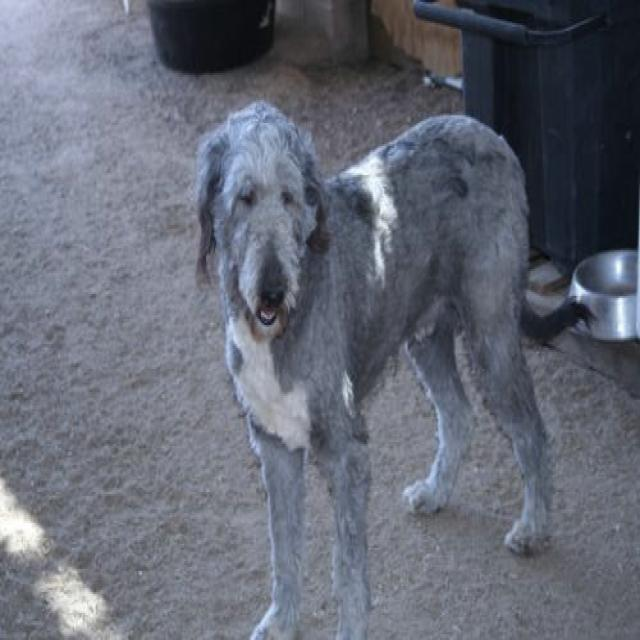irish_wolfhound: (197, 102, 544, 638)
